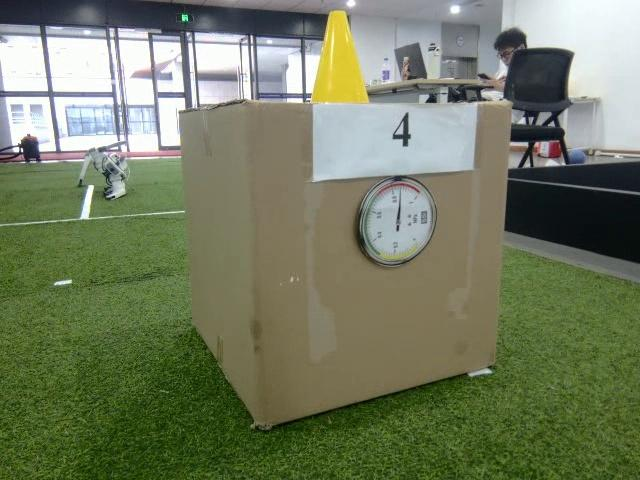4: (390, 111, 414, 149)
Dashboard: (354, 176, 436, 271)
ssi: (418, 208, 428, 225)
yellow_barrel: (309, 9, 369, 104)
